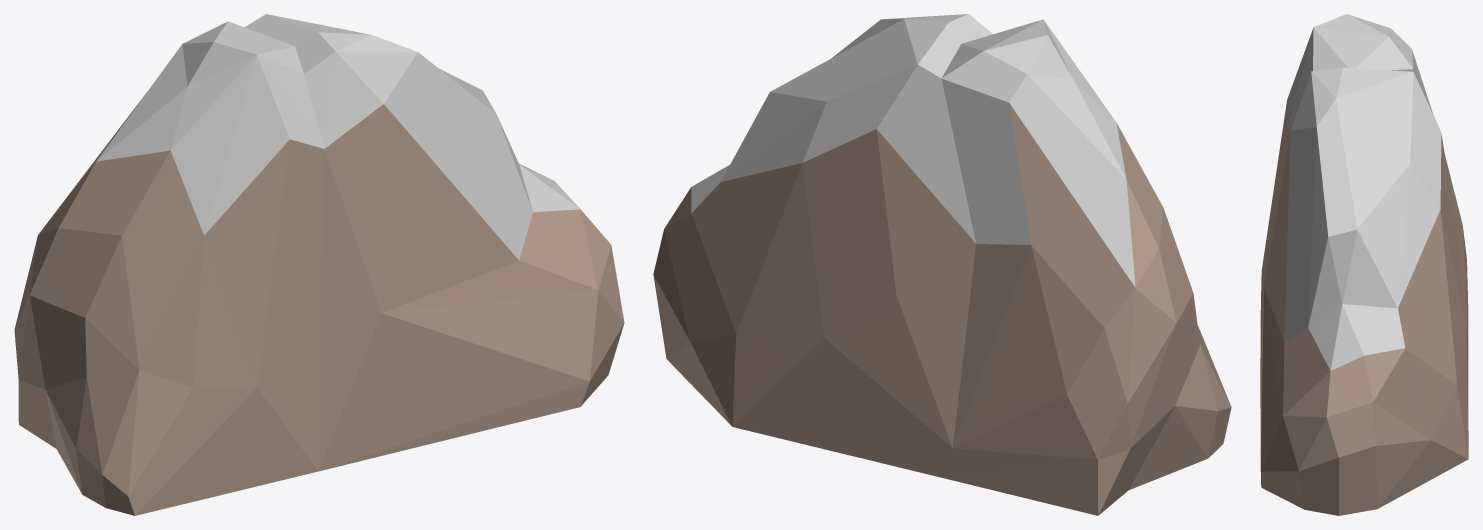
The model's file is mountain5.fbx.
3 views of the same model, side by side, from view 1: azimuth 30°, elevation 25°; view 2: azimuth 150°, elevation 25°; view 3: azimuth 270°, elevation 25° (orthographic). The views are drawn at different scales.
Visible parts, largest first — view 1: Plane.003; view 2: Plane.003; view 3: Plane.003.
Boxes of the visible parts, x1,y1,x2,y2 form: Plane.003: (14, 14, 624, 515); Plane.003: (653, 14, 1231, 515); Plane.003: (1260, 14, 1468, 515).
Size of the model in its own units: 5223 by 3657 by 2013.
